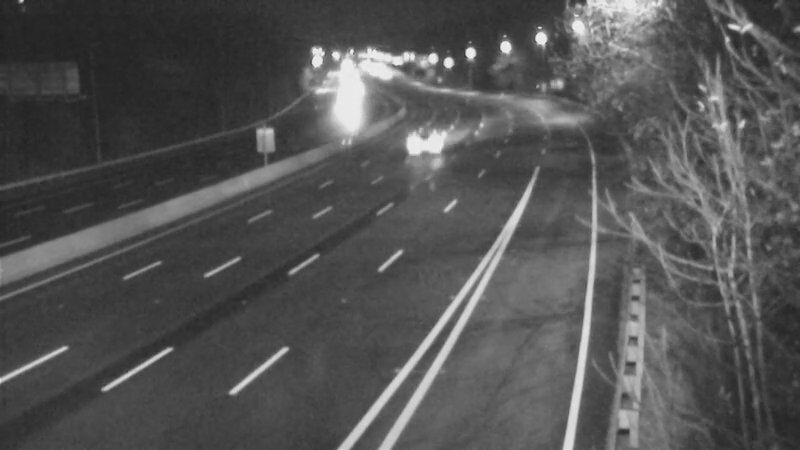vehicle: (400, 114, 450, 164)
